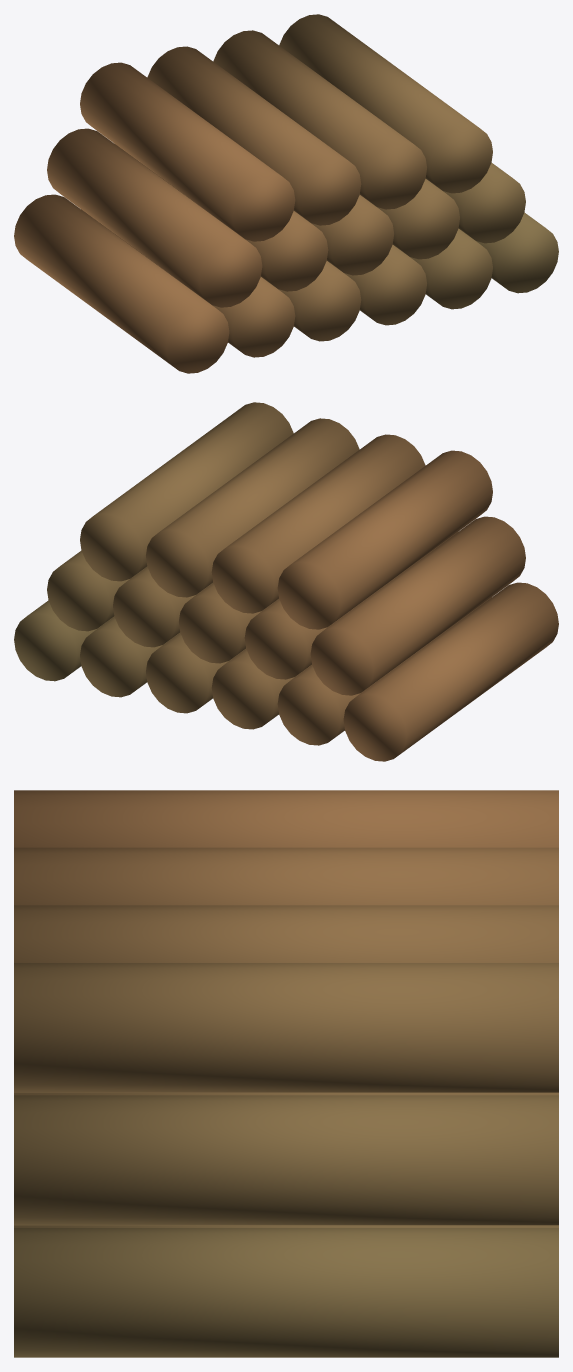
File: Woodpile.fbx
3 views of the same model, one above another, from view 1: azimuth 30°, elevation 25°; view 2: azimuth 150°, elevation 25°; view 3: azimuth 270°, elevation 25° (orthographic). The views are drawn at different scales.
Visible parts, largest first — view 1: Log00, Log10, Log20, Log22, Log21, Log23, Log01, Log11, Log05, Log14, Log02, Log04 (+3 smaller); view 2: Log00, Log10, Log20, Log22, Log21, Log23, Log01, Log11, Log05, Log14, Log02, Log04 (+3 smaller); view 3: Log14, Log05, Log23, Log21, Log20, Log22, Log13, Log04.
Part boxes in pixels (x1=…): Log00: x1=14, y1=194, x2=229, y2=373; Log10: x1=47, y1=128, x2=262, y2=307; Log20: x1=80, y1=62, x2=295, y2=241; Log22: x1=213, y1=30, x2=426, y2=209; Log21: x1=147, y1=46, x2=361, y2=225; Log23: x1=279, y1=14, x2=492, y2=193; Log01: x1=81, y1=209, x2=295, y2=357; Log11: x1=115, y1=144, x2=328, y2=291; Log05: x1=460, y1=212, x2=558, y2=293; Log14: x1=427, y1=162, x2=525, y2=243; Log02: x1=262, y1=261, x2=361, y2=341; Log04: x1=394, y1=228, x2=492, y2=309; Log00: x1=343, y1=582, x2=558, y2=761; Log10: x1=310, y1=516, x2=525, y2=695; Log20: x1=277, y1=450, x2=492, y2=629; Log22: x1=146, y1=418, x2=359, y2=597; Log21: x1=211, y1=434, x2=425, y2=613; Log23: x1=80, y1=402, x2=293, y2=581; Log01: x1=277, y1=597, x2=491, y2=745; Log11: x1=244, y1=532, x2=457, y2=679; Log05: x1=14, y1=600, x2=112, y2=681; Log14: x1=47, y1=550, x2=145, y2=631; Log02: x1=211, y1=649, x2=310, y2=729; Log04: x1=80, y1=616, x2=178, y2=697; Log14: x1=14, y1=1095, x2=558, y2=1225; Log05: x1=14, y1=1228, x2=558, y2=1357; Log23: x1=14, y1=963, x2=558, y2=1092; Log21: x1=14, y1=847, x2=558, y2=905; Log20: x1=14, y1=790, x2=558, y2=847; Log22: x1=14, y1=905, x2=558, y2=962; Log13: x1=14, y1=1092, x2=558, y2=1095; Log04: x1=14, y1=1225, x2=558, y2=1227.
Bounding box in the file's own units: 149 × 100 × 66.
